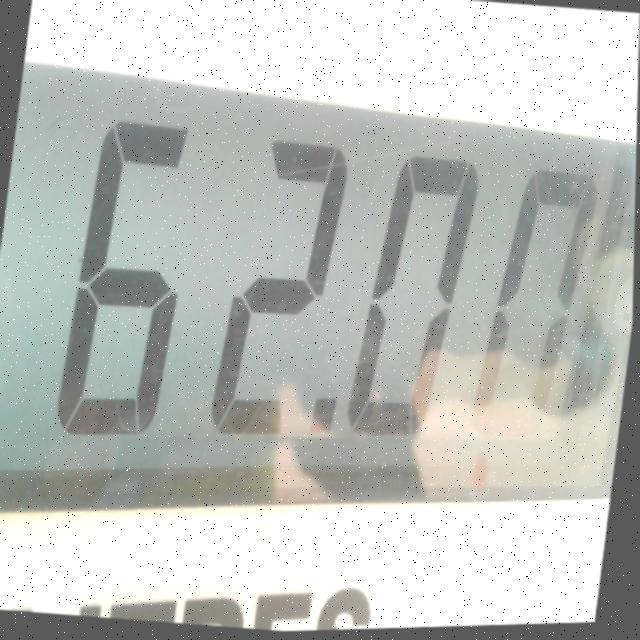.: (304, 392, 337, 440)
0: (344, 153, 484, 437), (469, 160, 599, 449)
2: (213, 137, 347, 434)
6: (62, 118, 198, 440)
